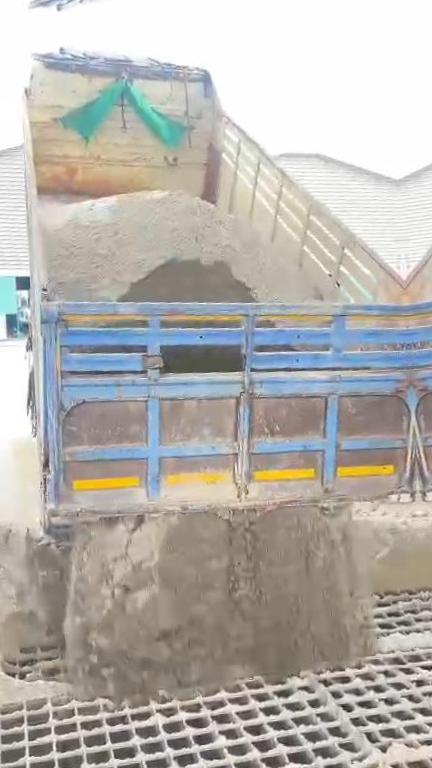sand: (0, 507, 424, 708), (34, 192, 322, 302), (387, 737, 432, 765), (378, 632, 428, 654)
